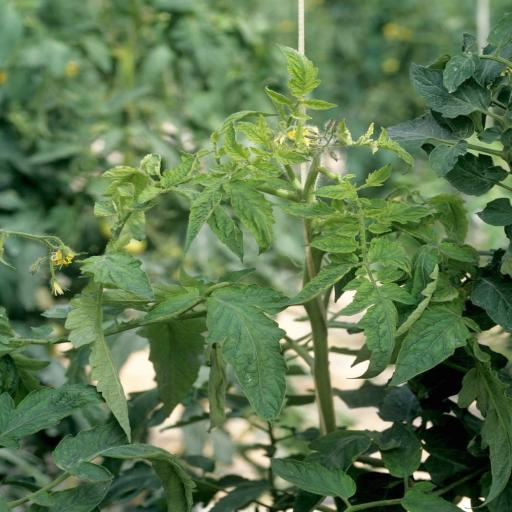disease_tomato: (386, 298, 482, 386), (336, 279, 418, 379), (394, 242, 444, 338), (222, 178, 276, 258), (280, 261, 352, 306), (182, 181, 222, 257), (274, 42, 322, 98), (375, 126, 415, 176), (369, 234, 414, 278), (373, 198, 437, 226), (272, 196, 337, 220), (159, 152, 199, 188), (220, 120, 252, 162), (308, 234, 361, 254), (310, 180, 358, 202), (236, 120, 276, 146), (270, 146, 312, 168), (437, 242, 477, 264), (364, 162, 394, 188), (300, 97, 338, 111), (376, 268, 406, 284), (336, 223, 362, 238), (368, 222, 392, 234)
